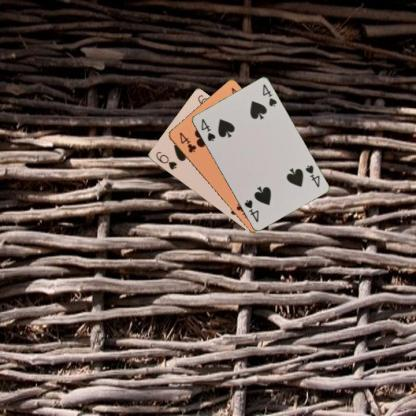4c: (176, 129, 197, 154)
4s: (198, 116, 217, 142), (302, 162, 320, 188)
6s: (153, 148, 178, 172)
